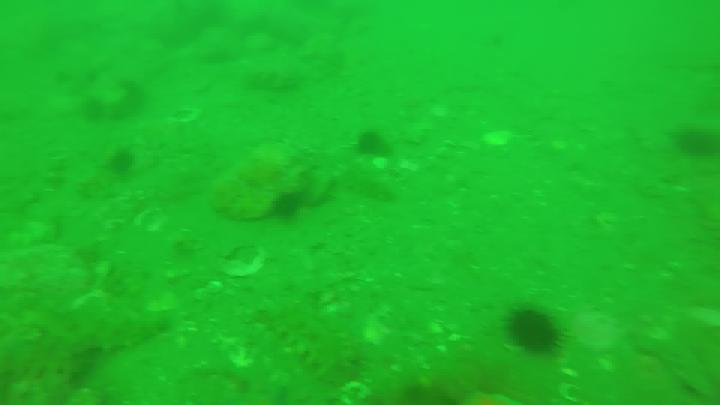echinus: (510, 306, 563, 356), (676, 119, 720, 153), (274, 191, 302, 219), (114, 145, 135, 176), (356, 134, 382, 153)
holothurian: (253, 296, 347, 382), (30, 301, 178, 350), (333, 166, 395, 203)
scallop: (339, 380, 376, 405), (135, 207, 168, 235), (481, 127, 516, 151), (558, 383, 593, 405), (174, 105, 204, 127)
